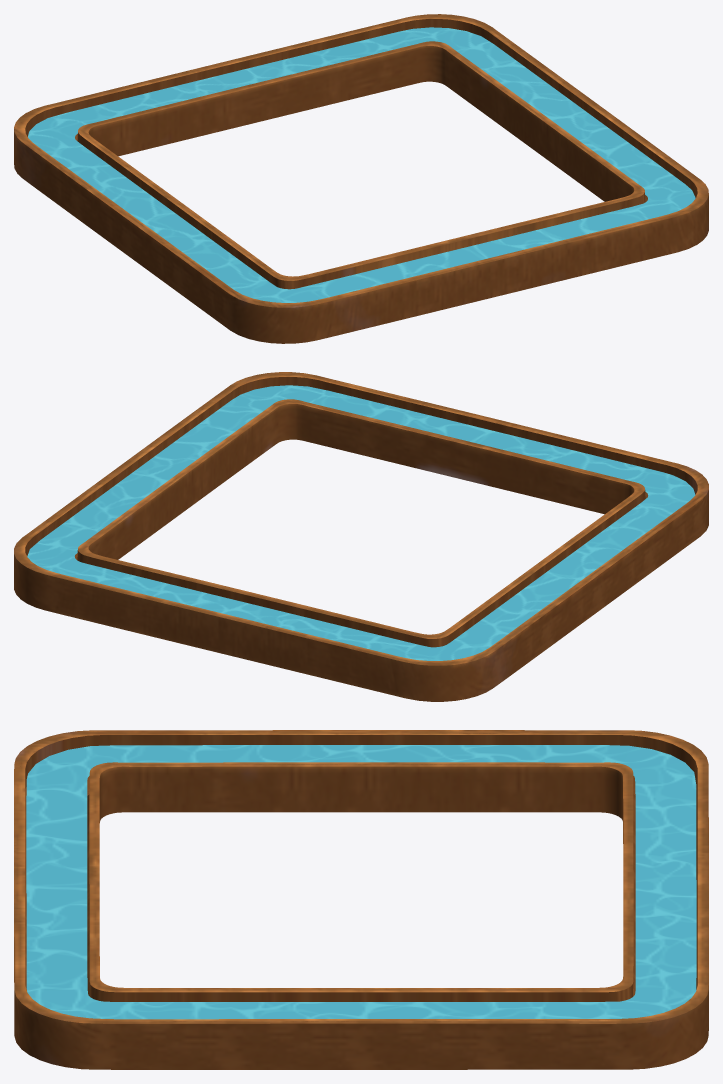
The model's file is bang_chuyen.glb.
3 views of the same model, one above another, from view 1: azimuth 30°, elevation 25°; view 2: azimuth 150°, elevation 25°; view 3: azimuth 270°, elevation 25° (orthographic). The views are drawn at different scales.
Visible parts, largest first — view 1: bang_chuyen; view 2: bang_chuyen; view 3: bang_chuyen.
Boxes of the visible parts, bbox=[...] form: bang_chuyen: bbox=[14, 14, 708, 343]; bang_chuyen: bbox=[14, 372, 708, 701]; bang_chuyen: bbox=[14, 730, 708, 1069].
Bounding box in the file's own units: 11.42 × 0.8358 × 11.42.
2 materials, 2 textured.
